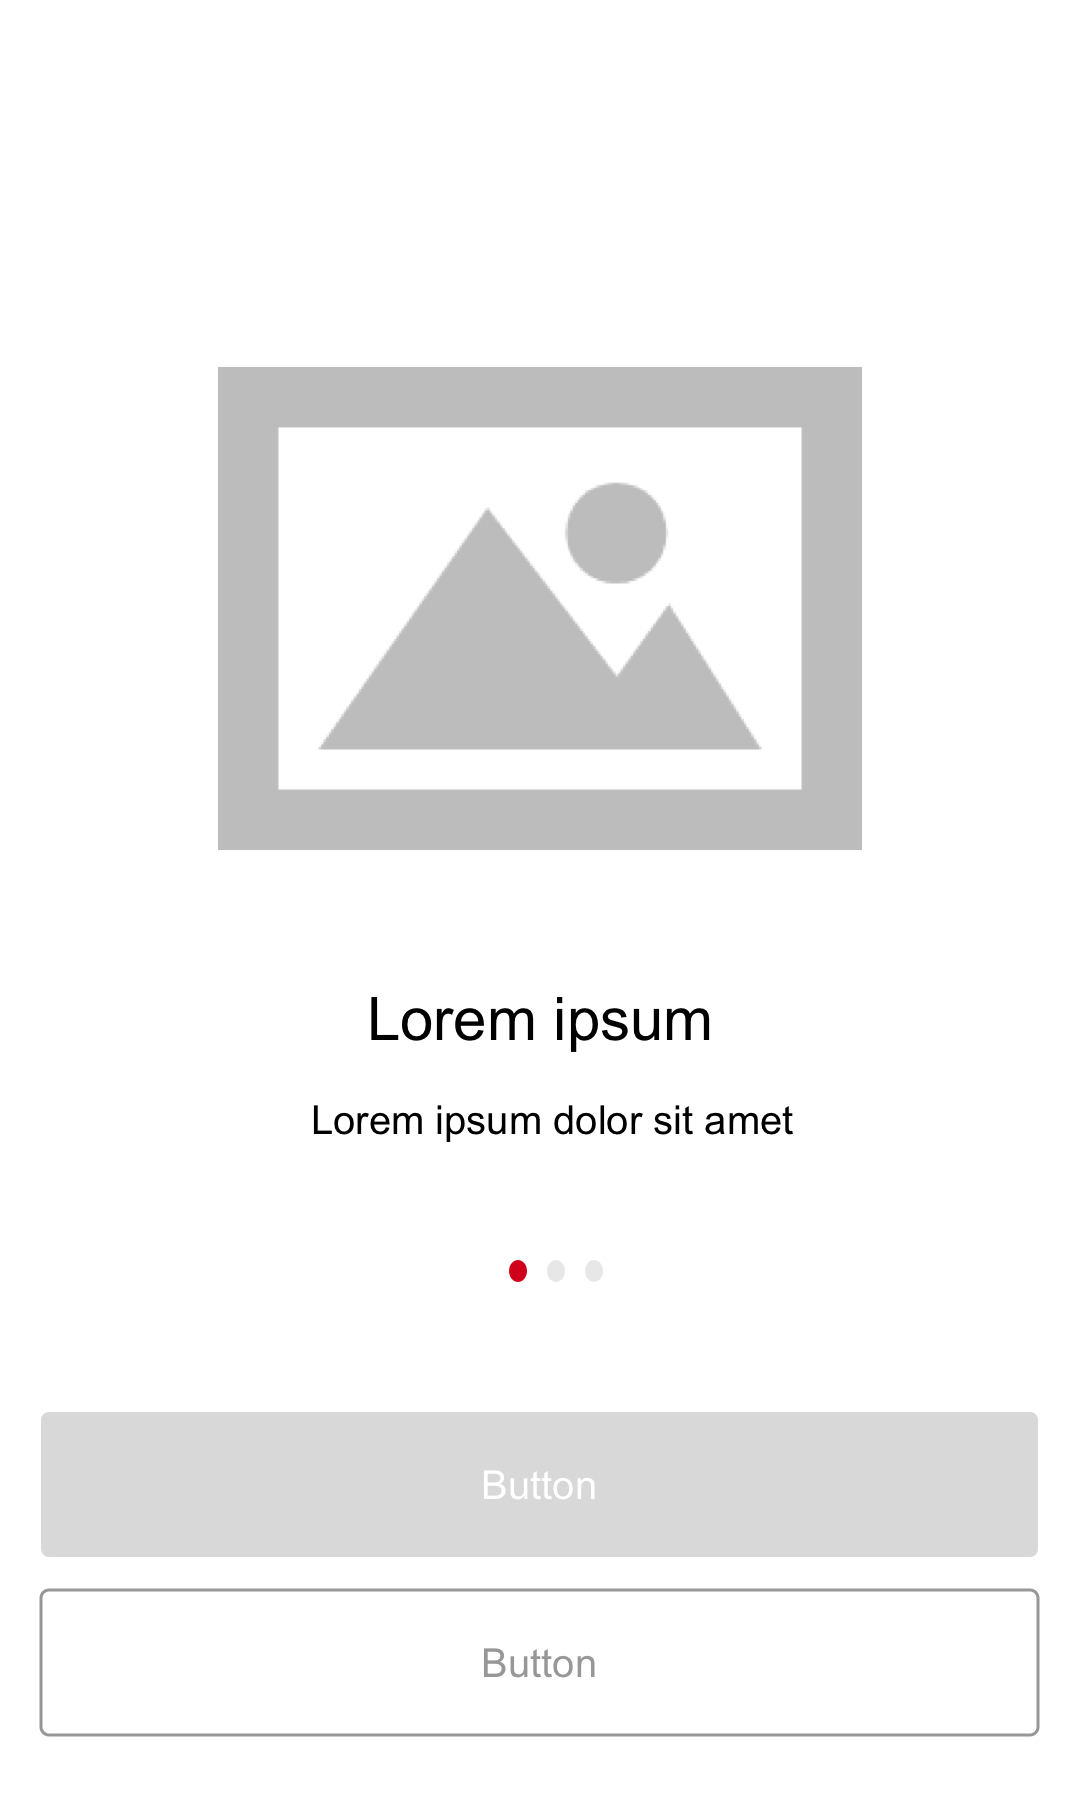Image: (217, 366, 863, 852)
PageIndicator: (509, 1258, 603, 1283)
Text: (372, 996, 710, 1053), (314, 1105, 794, 1143)
TextButton: (38, 1586, 1042, 1738), (41, 1411, 1039, 1558)
